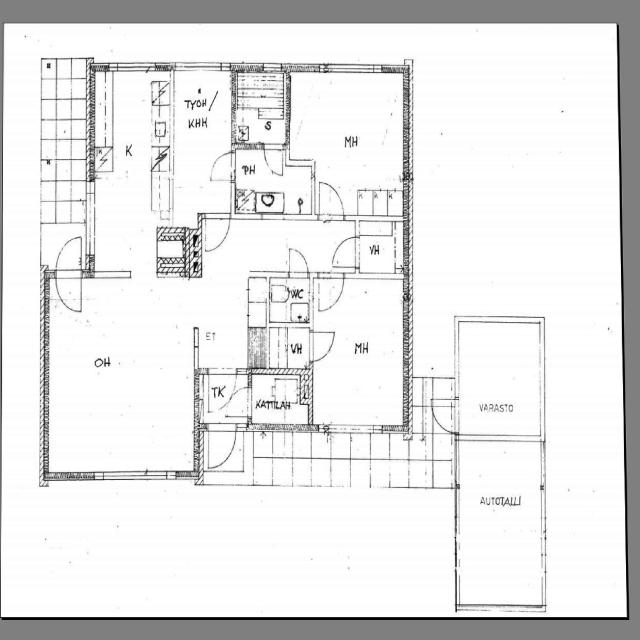door: (54, 232, 85, 312), (206, 372, 248, 418), (205, 423, 238, 473), (202, 210, 232, 255), (315, 179, 346, 221), (329, 233, 359, 273), (317, 273, 346, 313), (430, 398, 458, 437), (207, 148, 236, 184), (309, 327, 336, 364), (286, 244, 312, 280), (225, 385, 252, 419), (262, 142, 286, 178)
window: (84, 178, 99, 250), (92, 472, 177, 482), (175, 62, 222, 75), (114, 61, 154, 74)
zone: (45, 274, 195, 476), (90, 68, 170, 274), (454, 434, 544, 605), (311, 273, 408, 430), (290, 71, 410, 177), (455, 320, 542, 438), (170, 70, 233, 172), (233, 152, 316, 217), (232, 68, 288, 148), (248, 372, 309, 431), (357, 218, 408, 279), (261, 325, 311, 373), (266, 276, 312, 324), (206, 369, 240, 416)
